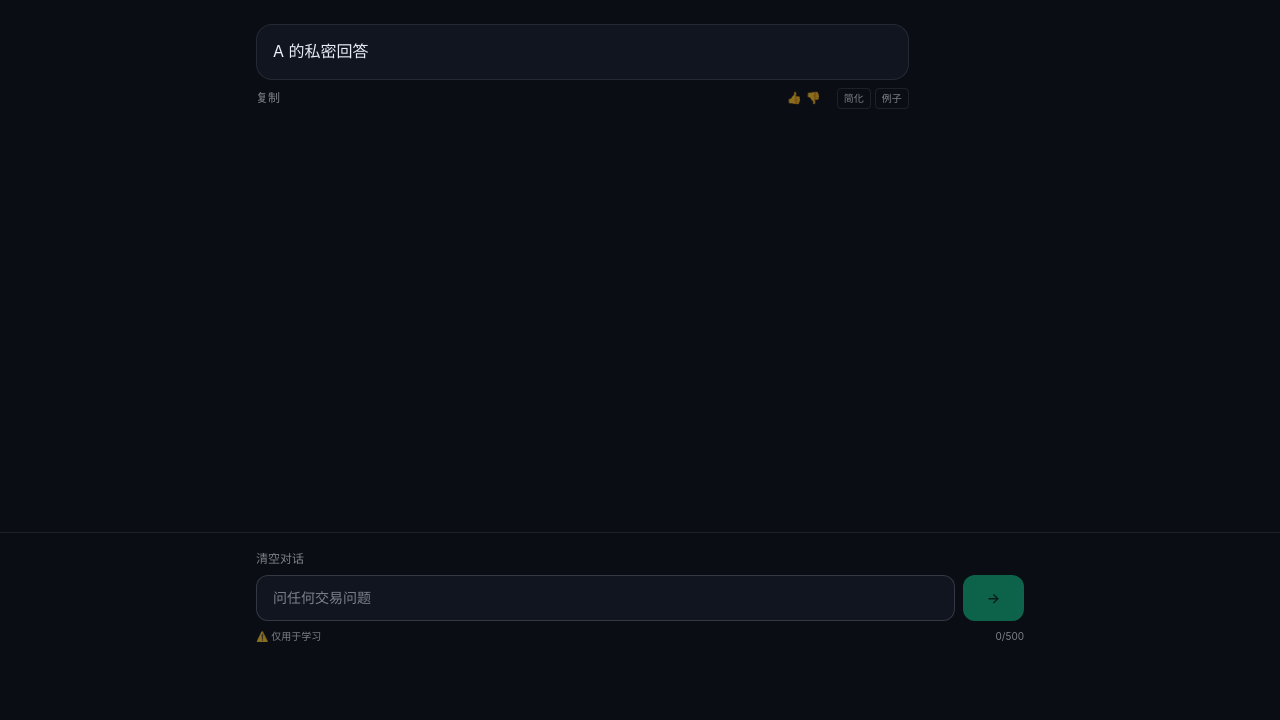
Scenario: AiChat 清空对话 › 点「清空对话」连云端那一份一起删，不只是清屏幕
The width and height of the screenshot is (1280, 720).
Expected: the text "A 的私密回答" is shown, [273,41,368,61]
Step 1. Click the button "清空对话" → point(280, 559), box [256,551,304,567]
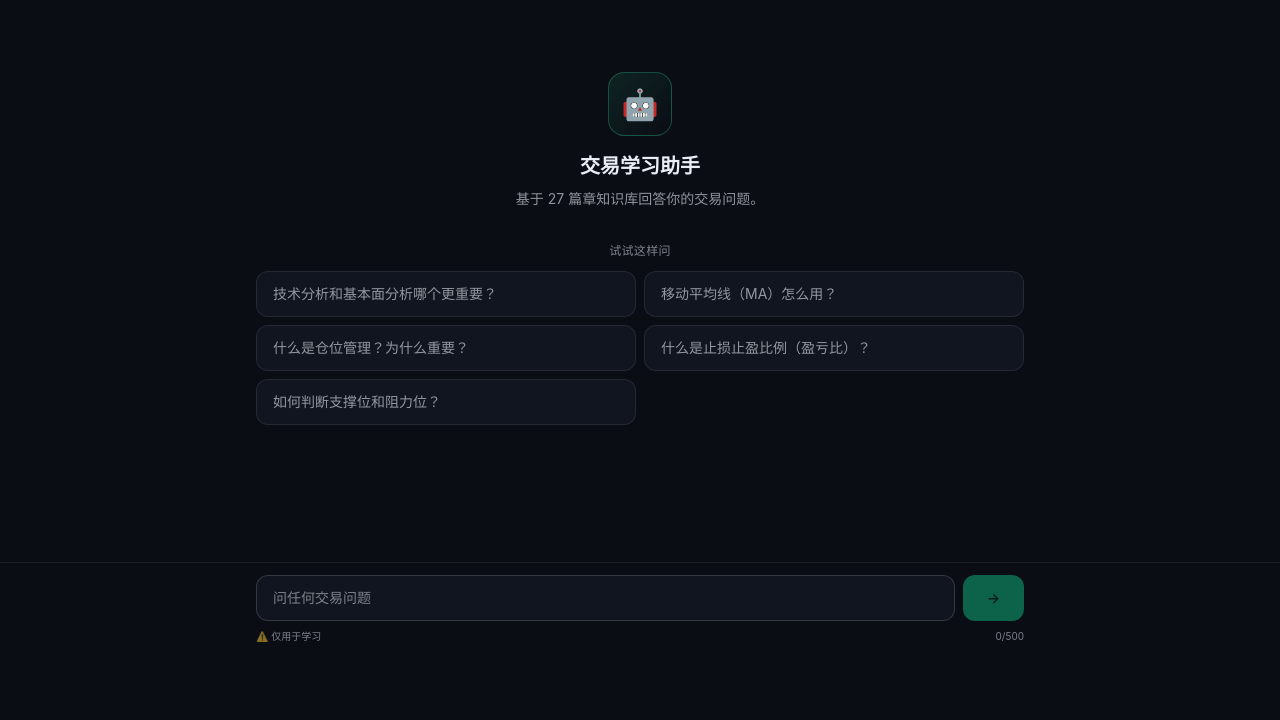
Now the text "A 的私密回答" is gone
